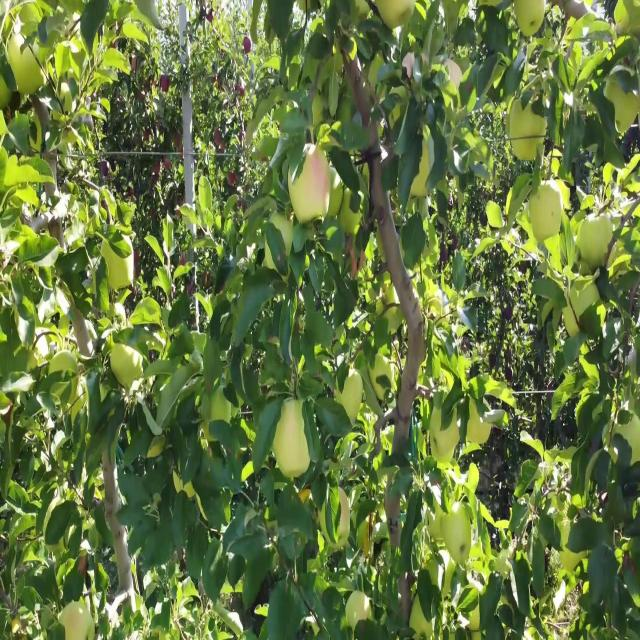apple: (292, 149, 336, 226), (528, 177, 571, 249), (272, 405, 312, 480), (512, 99, 547, 164), (576, 213, 612, 270), (12, 49, 46, 98), (108, 243, 140, 292), (112, 341, 144, 389), (464, 405, 492, 453), (321, 163, 344, 220), (516, 0, 546, 41), (444, 72, 473, 112), (340, 191, 363, 238), (412, 149, 432, 199), (380, 0, 411, 30), (512, 135, 542, 165), (448, 78, 473, 112), (348, 597, 372, 631), (552, 177, 572, 212), (324, 186, 344, 220), (320, 120, 342, 148), (344, 35, 359, 64), (148, 440, 166, 460), (384, 284, 399, 308), (4, 398, 14, 427), (4, 79, 12, 107), (244, 462, 255, 482), (244, 35, 252, 57), (160, 78, 171, 92), (216, 127, 222, 148), (132, 56, 138, 71), (208, 14, 215, 21)
